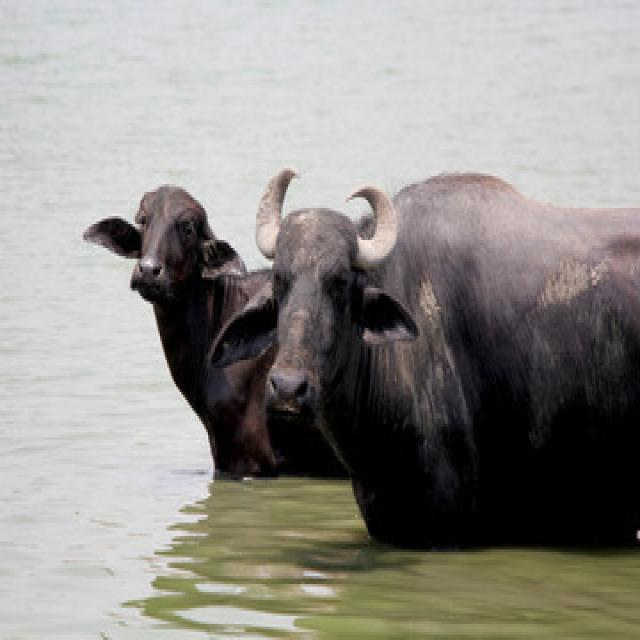Buffalo: (209, 171, 640, 547), (78, 179, 309, 478), (86, 186, 234, 305)
